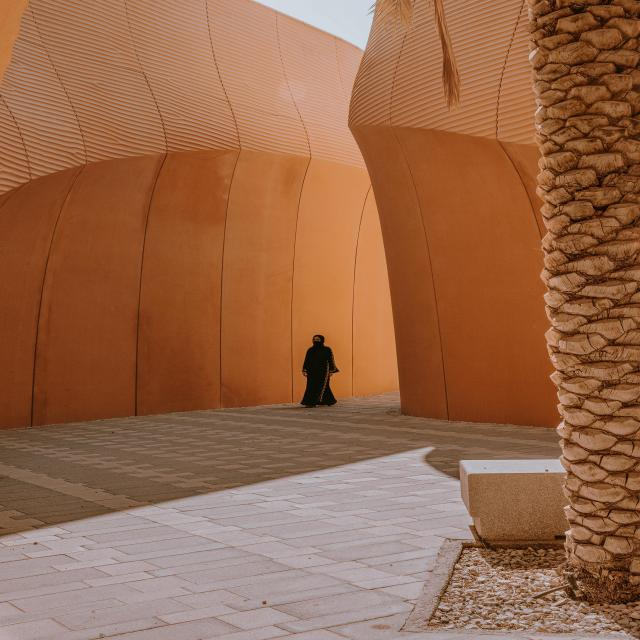stand: (299, 330, 349, 418)
